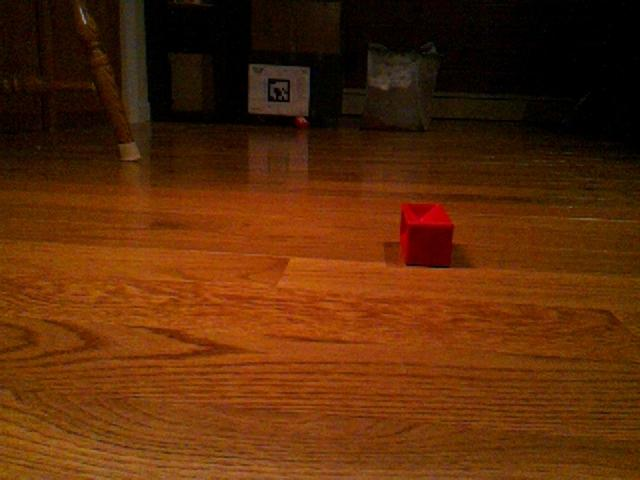red: (398, 201, 455, 269)
